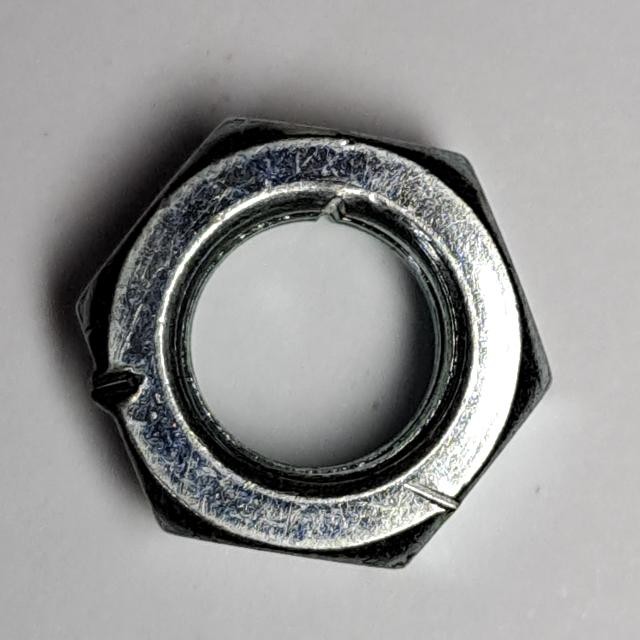Scratches: (64, 109, 560, 583)
